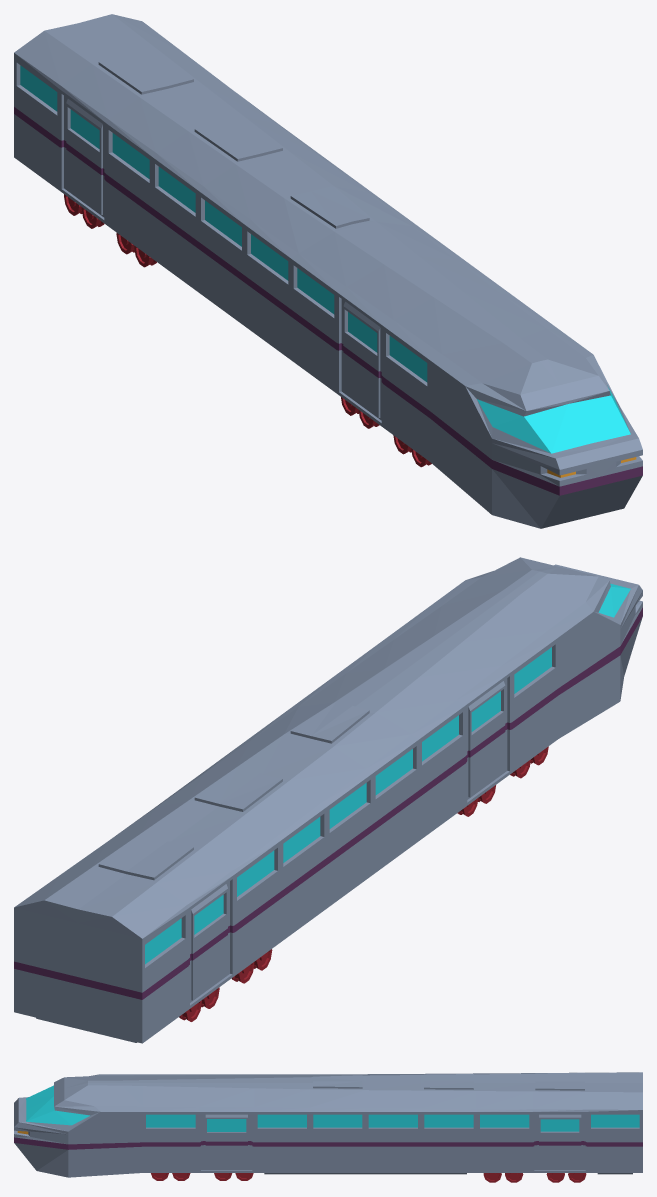
Rendered from train_01.obj.
The picture shows the model from 3 angles, top to bottom: view 1: azimuth 30°, elevation 25°; view 2: azimuth 150°, elevation 25°; view 3: azimuth 270°, elevation 25°; orthographic projection. The views are drawn at different scales.
Visible parts, largest first — view 1: 01_-_train_Cube; view 2: 01_-_train_Cube; view 3: 01_-_train_Cube.
Boxes of the visible parts, x1,y1,x2,y2 form: 01_-_train_Cube: (14,14,642,528); 01_-_train_Cube: (14,557,642,1043); 01_-_train_Cube: (14,1072,642,1182).
Size of the model in its own units: 2 by 2.07 by 14.11.
